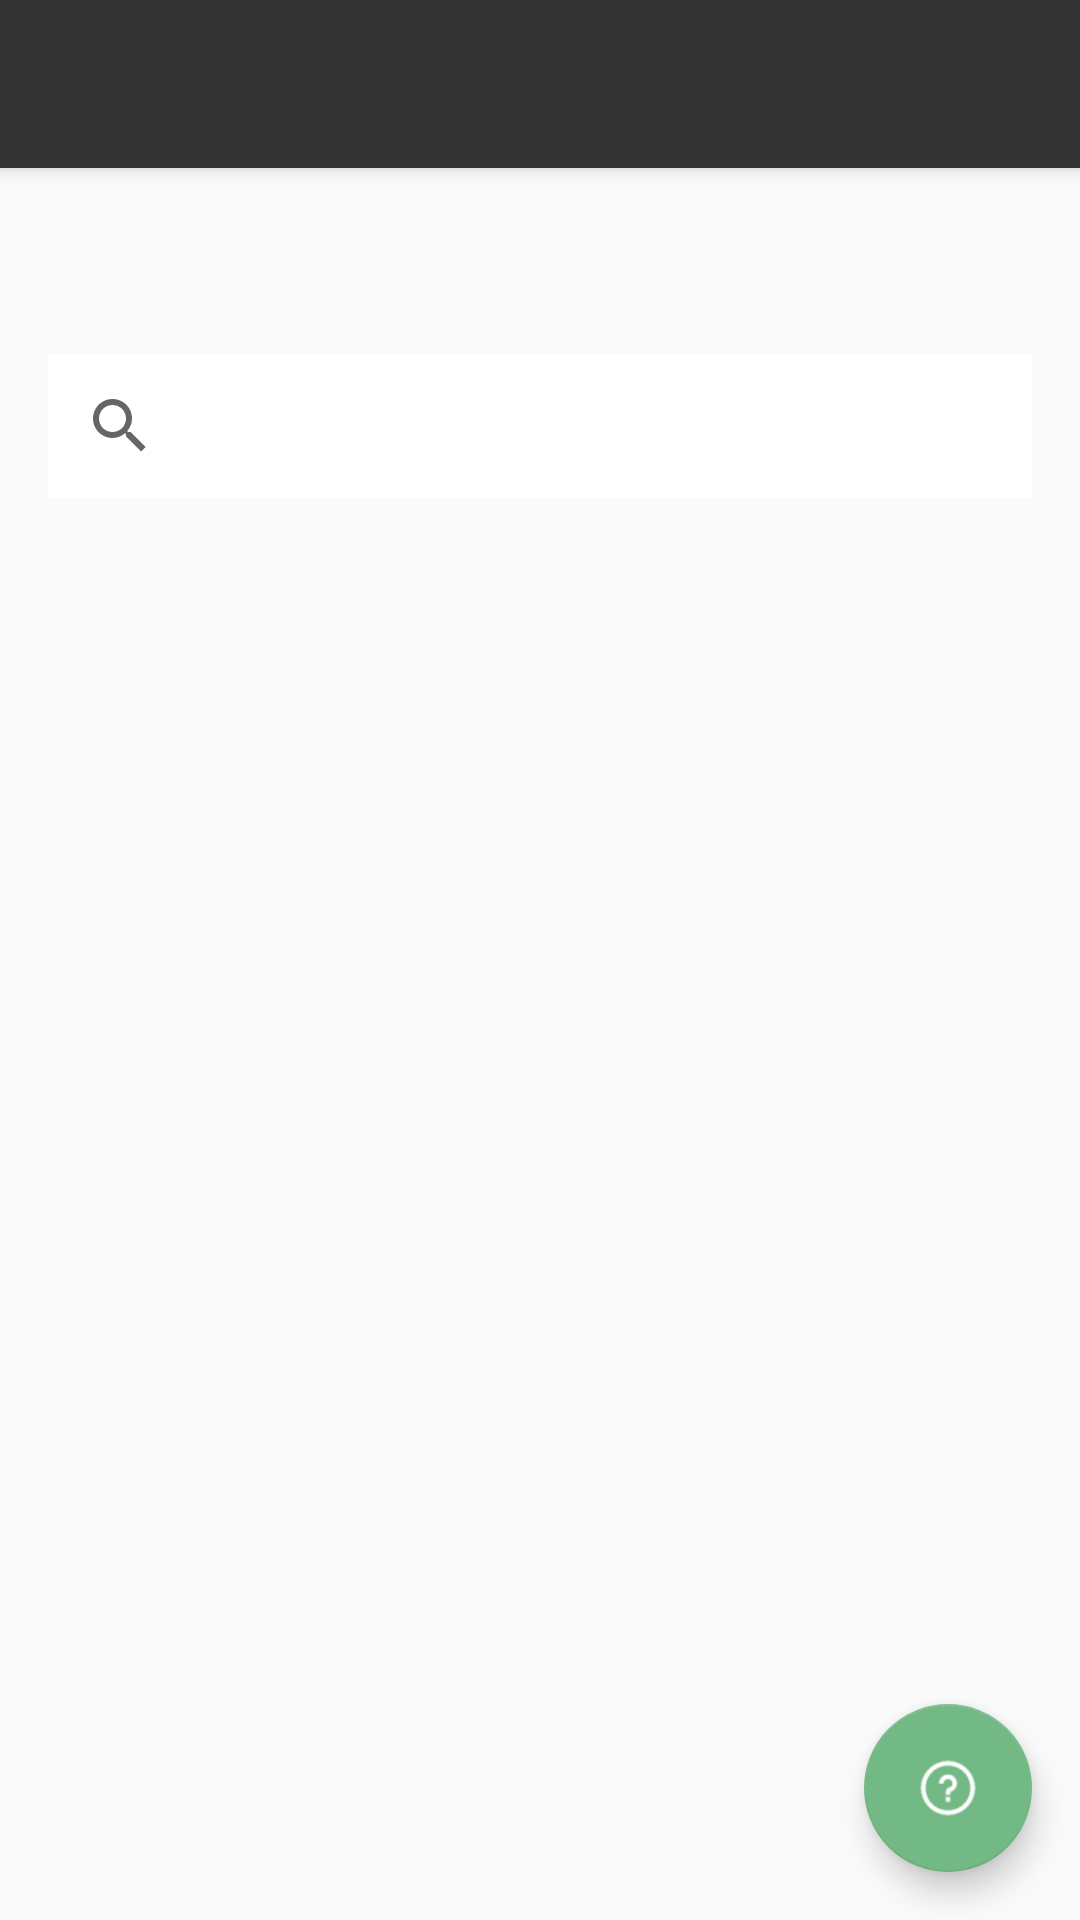

Icon bounding boxes for this 1080px x 1920px phone screenshot, format rect(x1, y1, x2, y2):
help: rect(864, 1704, 1032, 1872)
